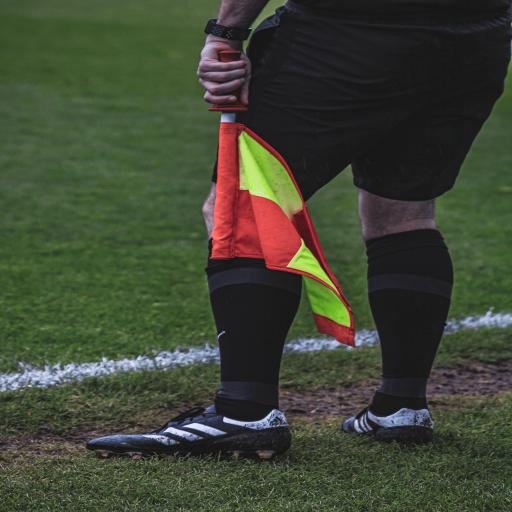shoe: (87, 406, 291, 458), (343, 407, 433, 443)
